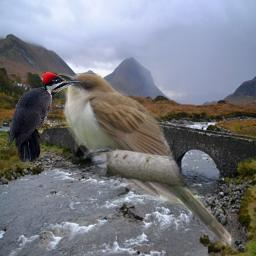Cuckoo: (55, 73, 234, 247)
Woodpecker: (5, 71, 82, 162)
